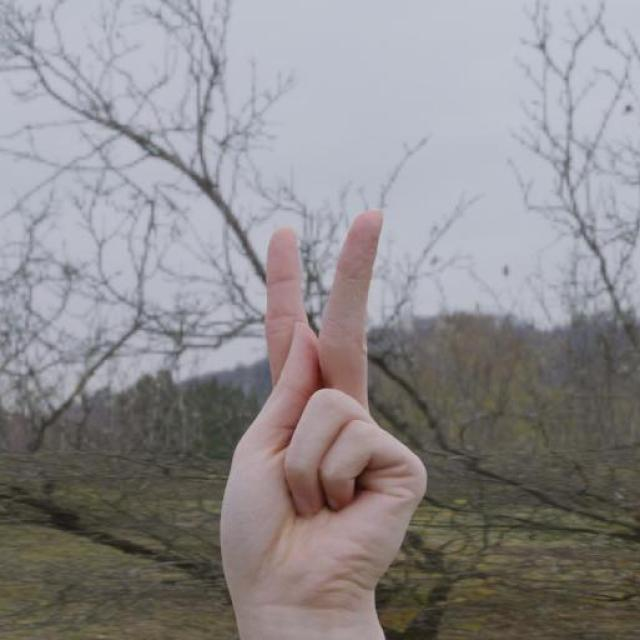K: (185, 178, 439, 614)
